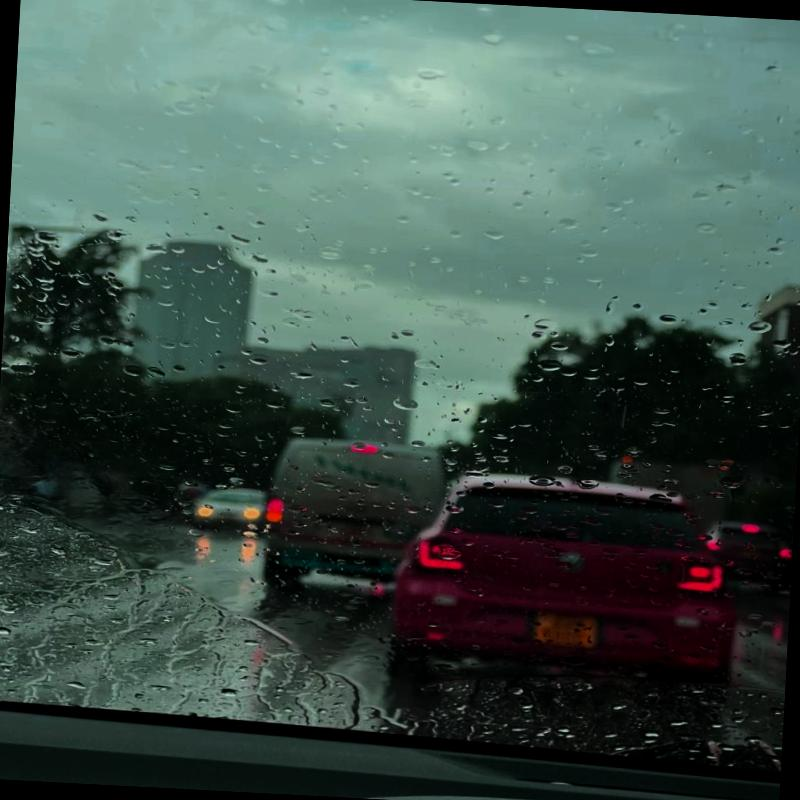license plate on a car: (532, 612, 597, 648)
